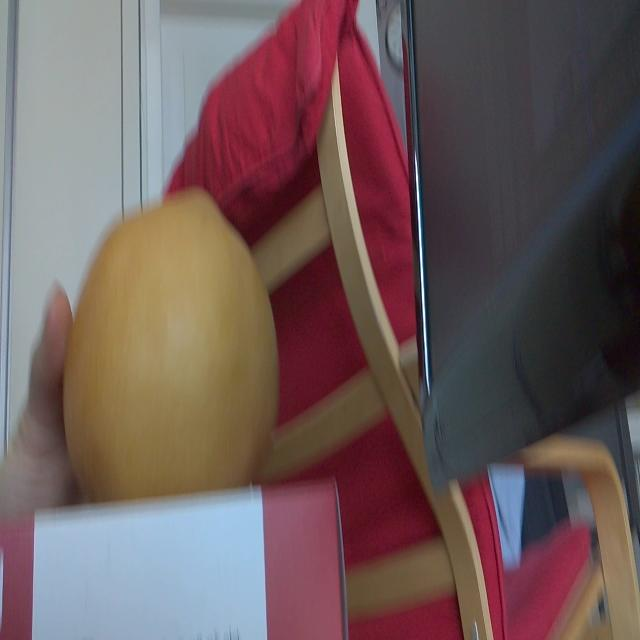pear: (61, 185, 280, 508)
